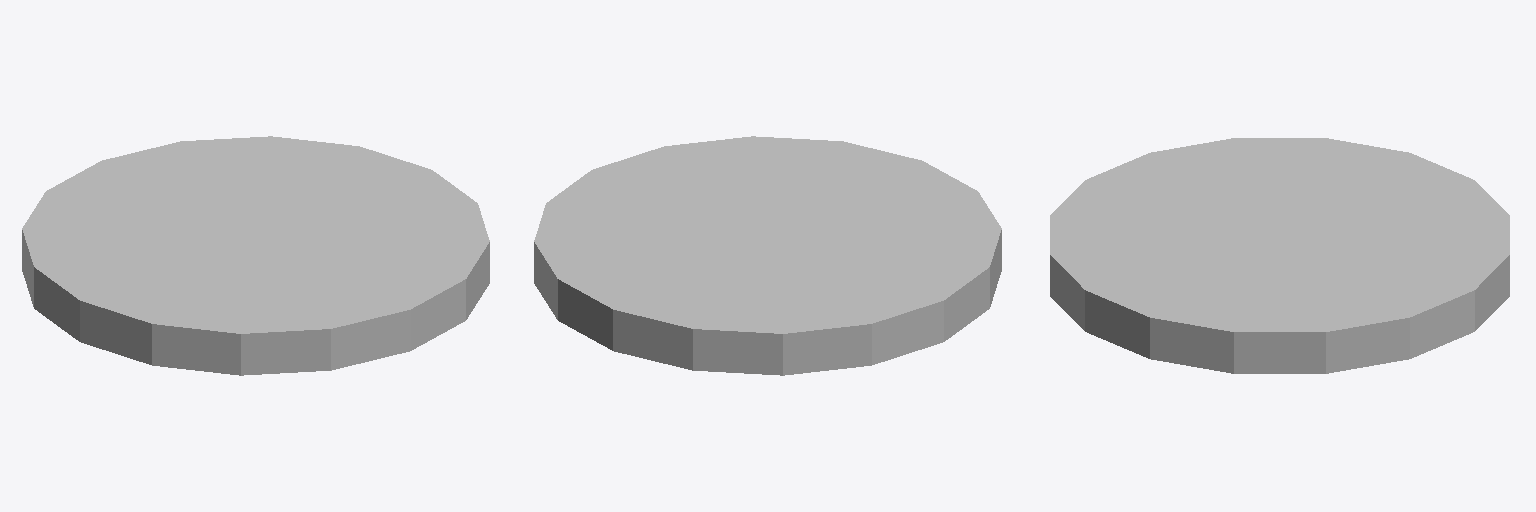
The model's file is Knight_Decoupler_A_Collider.obj.
The picture shows the model from 3 angles: view 1: azimuth 30°, elevation 25°; view 2: azimuth 150°, elevation 25°; view 3: azimuth 270°, elevation 25°; orthographic projection.
Visible parts, largest first — view 1: Knight_Decoupler_A_Collider; view 2: Knight_Decoupler_A_Collider; view 3: Knight_Decoupler_A_Collider.
Part boxes in pixels (bbox=[...]): Knight_Decoupler_A_Collider: bbox=[22, 136, 489, 375]; Knight_Decoupler_A_Collider: bbox=[534, 136, 1001, 375]; Knight_Decoupler_A_Collider: bbox=[1050, 138, 1509, 373].
Size of the model in its own units: 0.9375 by 0.0938 by 0.9375.